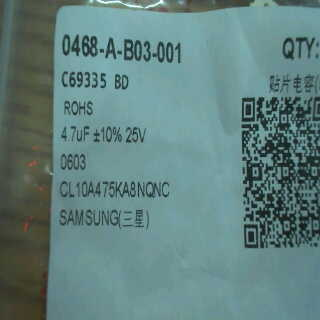4.7uF: (59, 121, 92, 147)
